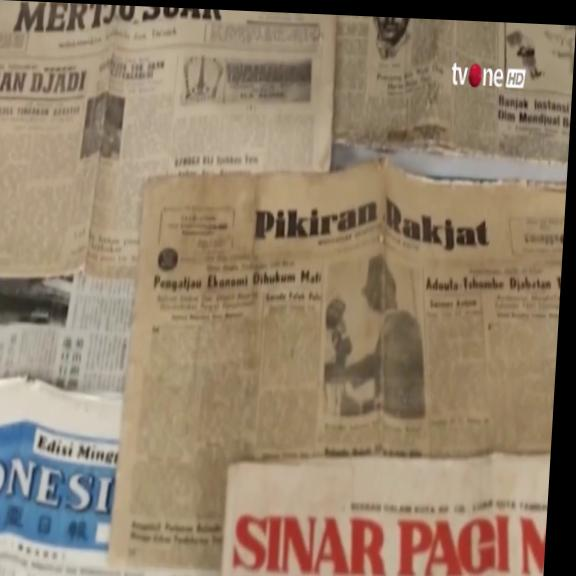Kertas: (114, 149, 556, 576), (0, 0, 326, 323)
